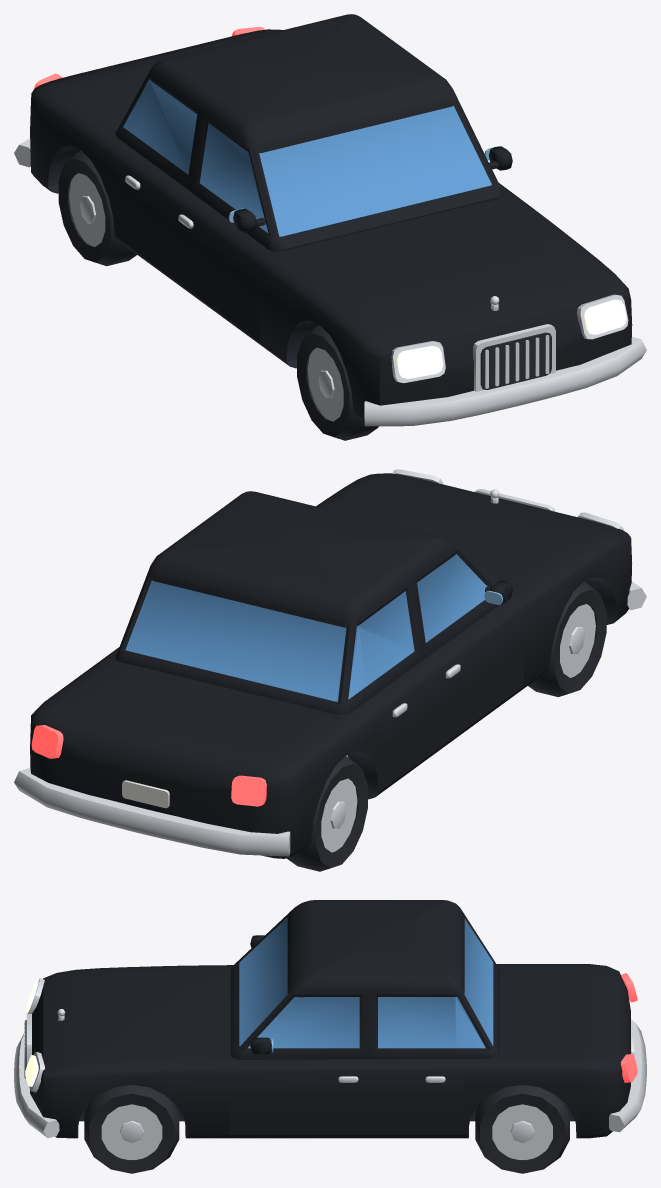
Rendered from sedan_luxo_preto.glb.
3 views of the same model, one above another, from view 1: azimuth 30°, elevation 25°; view 2: azimuth 150°, elevation 25°; view 3: azimuth 270°, elevation 25° (orthographic). The views are drawn at different scales.
Visible parts, largest first — view 1: sedan_luxo_preto, porta_dianteira_esq, porta_traseira_esq, roda_traseira_esq, roda_dianteira_esq, porta_malas; view 2: sedan_luxo_preto, porta_malas, porta_dianteira_esq, porta_traseira_esq, roda_traseira_esq, roda_dianteira_esq; view 3: sedan_luxo_preto, porta_dianteira_dir, porta_traseira_dir, porta_malas, roda_dianteira_dir, roda_traseira_dir.
Boxes of the visible parts, <box> form: sedan_luxo_preto: <box>14,14,646,426</box>; porta_dianteira_esq: <box>174,115,275,336</box>; porta_traseira_esq: <box>121,77,201,279</box>; roda_traseira_esq: <box>58,150,136,266</box>; roda_dianteira_esq: <box>297,325,378,440</box>; porta_malas: <box>57,32,261,120</box>; sedan_luxo_preto: <box>14,469,646,858</box>; porta_malas: <box>55,668,319,795</box>; porta_dianteira_esq: <box>413,548,517,747</box>; porta_traseira_esq: <box>358,584,439,786</box>; roda_traseira_esq: <box>287,756,367,871</box>; roda_dianteira_esq: <box>528,581,606,697</box>; sedan_luxo_preto: <box>14,900,646,1138</box>; porta_dianteira_dir: <box>240,992,368,1134</box>; porta_traseira_dir: <box>369,994,455,1134</box>; porta_malas: <box>507,972,630,1058</box>; roda_dianteira_dir: <box>84,1085,179,1173</box>; roda_traseira_dir: <box>475,1085,569,1173</box>.
Bounding box in the file's own units: 2.08 × 1.64 × 4.94.
4 materials, 1 textured.
